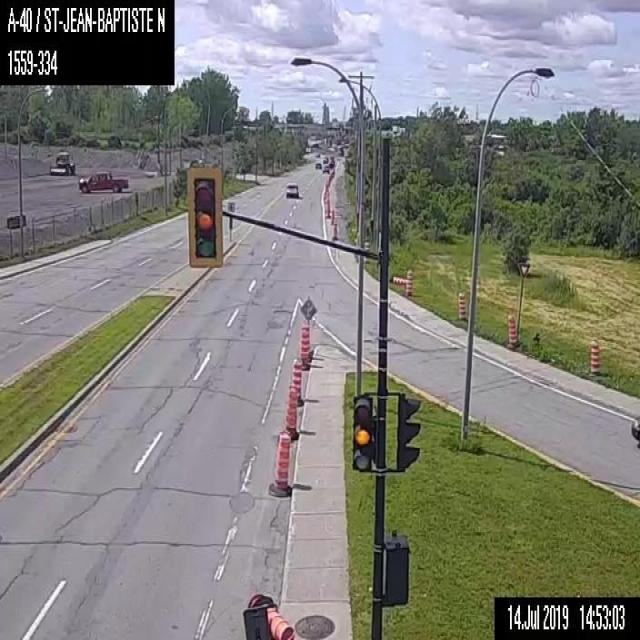construction: (242, 592, 294, 639), (268, 427, 290, 496), (279, 386, 298, 440), (287, 358, 302, 405), (298, 326, 310, 369), (588, 339, 600, 373), (506, 314, 516, 346), (456, 290, 466, 322), (405, 268, 412, 297), (392, 275, 406, 283), (325, 191, 329, 206), (333, 224, 337, 238), (326, 203, 329, 218), (331, 209, 334, 223)
vehicle: (77, 170, 127, 193), (49, 150, 74, 174), (630, 415, 639, 445), (285, 181, 298, 197), (322, 164, 329, 173), (314, 161, 321, 168)
